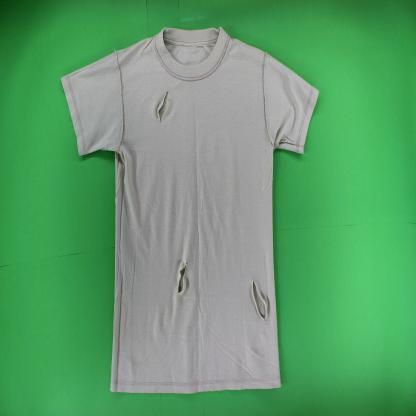hole: (250, 275, 269, 328), (176, 257, 191, 297), (157, 89, 171, 126)
